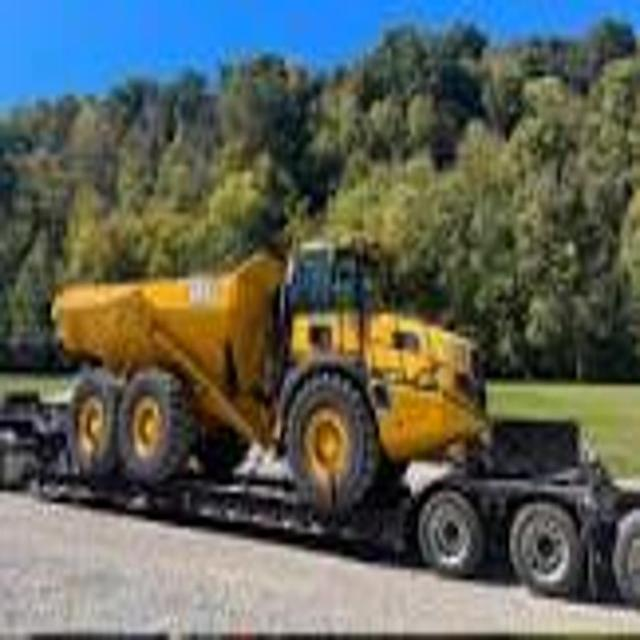dump_truck: (50, 256, 490, 506)
